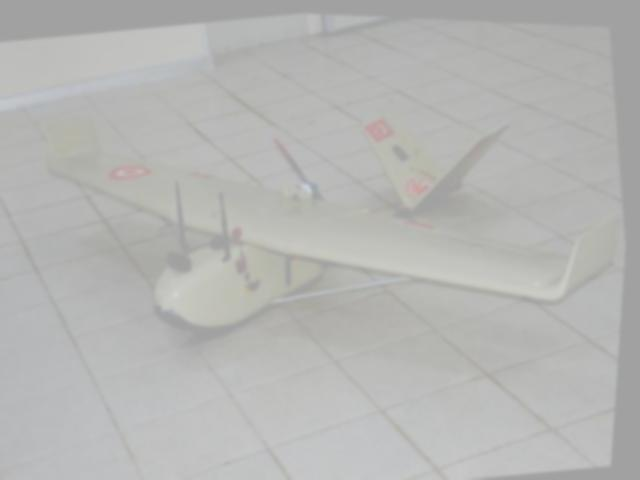iha: (0, 24, 639, 368)
